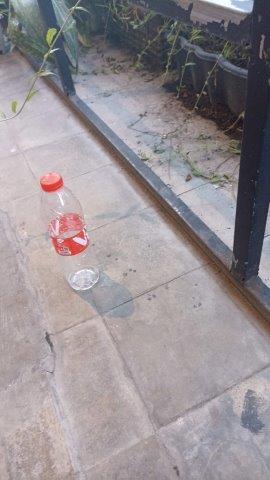botolplastik: (40, 173, 103, 292)
